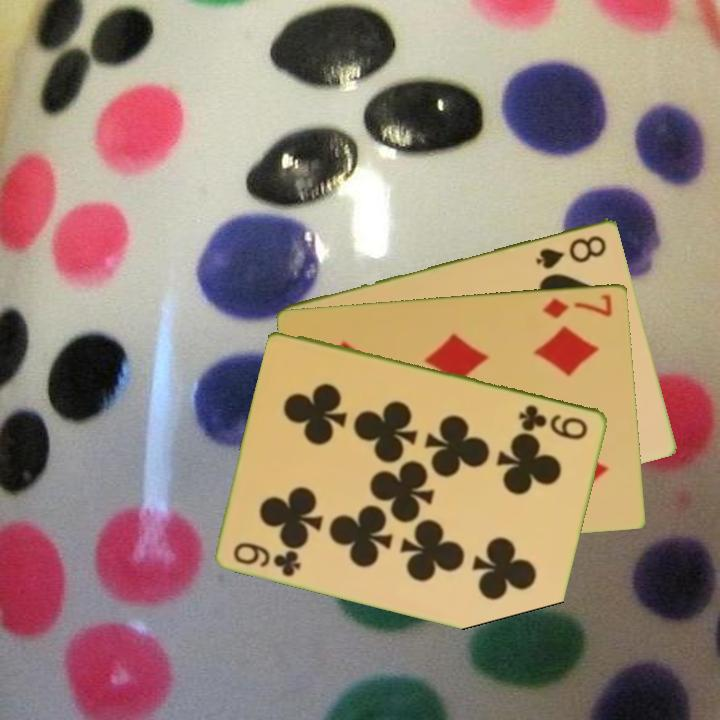7d: (539, 290, 616, 321)
8s: (532, 231, 610, 272)
9c: (515, 401, 592, 442), (230, 538, 304, 580)
